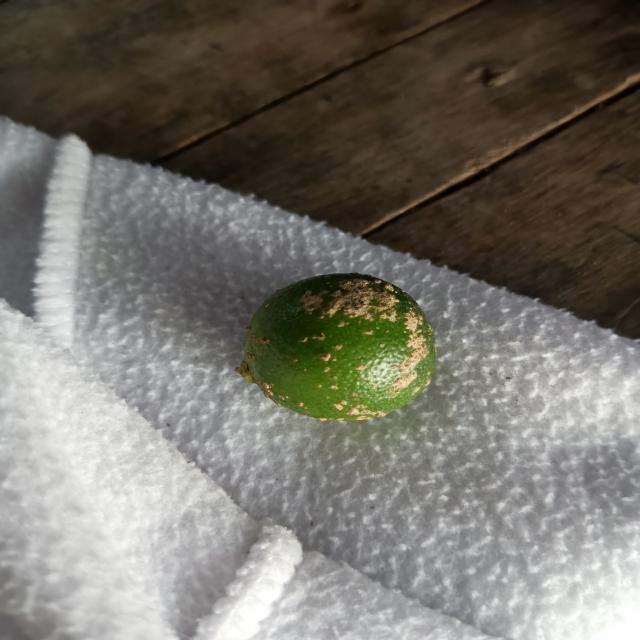scab: (234, 272, 438, 426)
